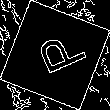P_SW: (25, 28, 85, 82)
